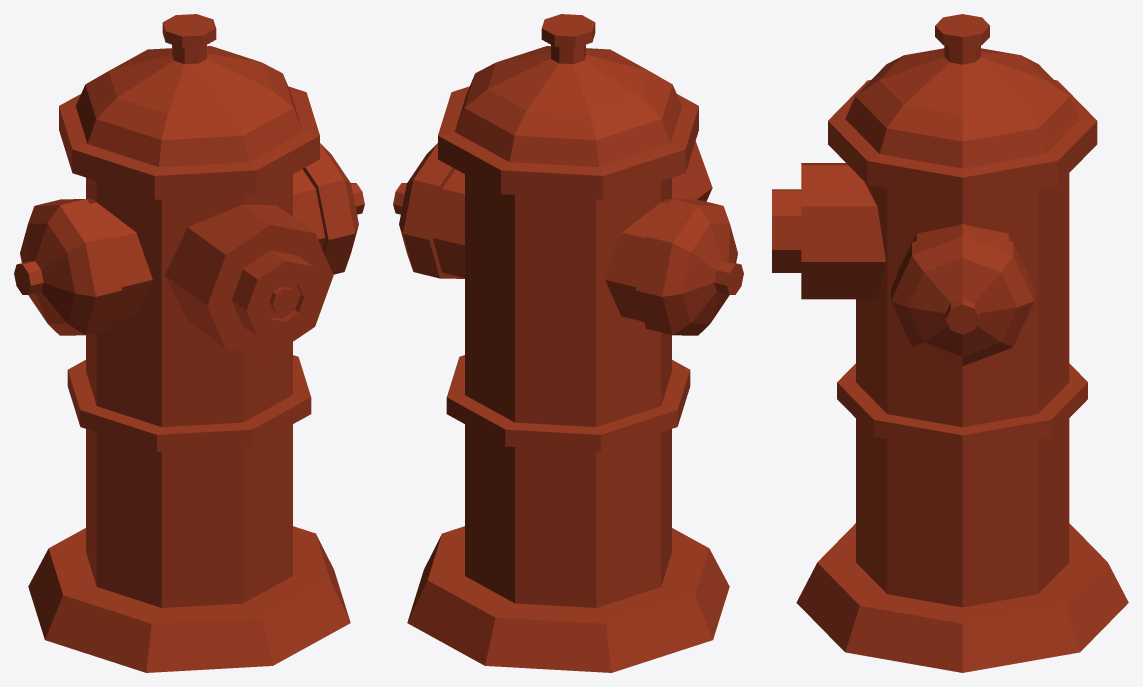
Rendered from SM_Hydrant.glb.
The picture shows the model from 3 angles, left to right: view 1: azimuth 30°, elevation 25°; view 2: azimuth 150°, elevation 25°; view 3: azimuth 270°, elevation 25°; orthographic projection.
Visible parts, largest first — view 1: SM_Hydrant; view 2: SM_Hydrant; view 3: SM_Hydrant.
Part boxes in pixels (x1,y1,x2,y2): SM_Hydrant: [14, 14, 364, 672]; SM_Hydrant: [393, 14, 743, 672]; SM_Hydrant: [772, 14, 1128, 672].
Size of the model in its own units: 0.4433 by 0.735 by 0.4118.
Materials: 1 (1 with a texture image).
